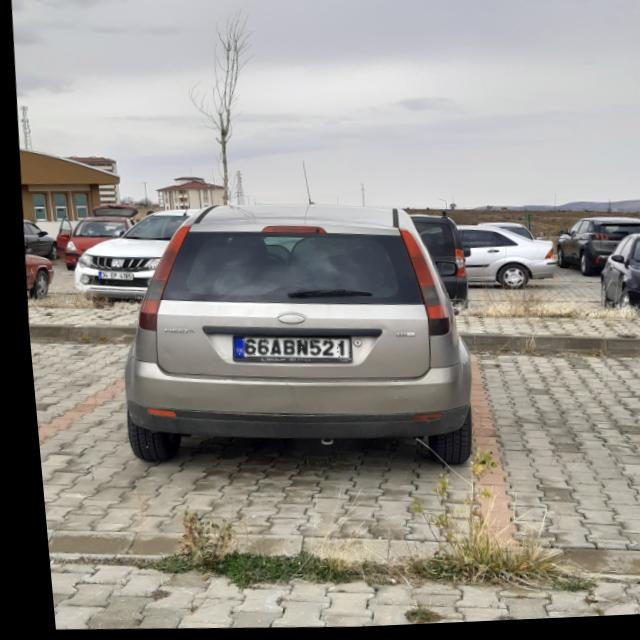license_plate: (226, 334, 344, 364)
